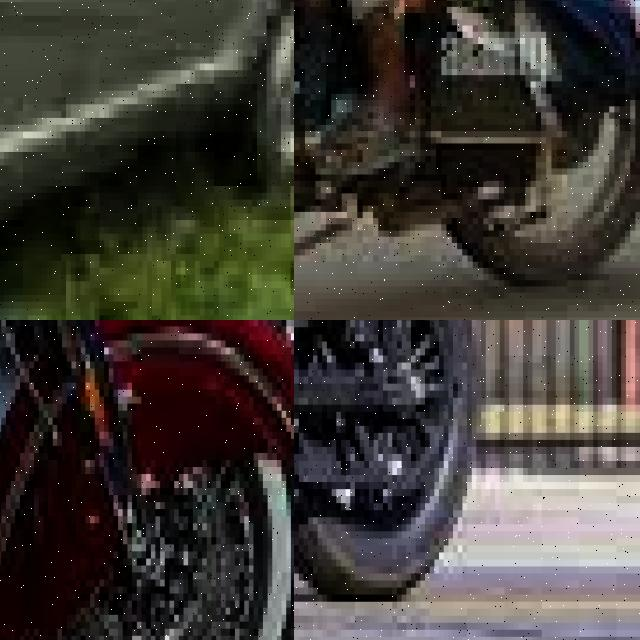bike: (294, 0, 640, 320), (0, 320, 294, 640), (294, 320, 532, 622)
car: (0, 0, 294, 320)
